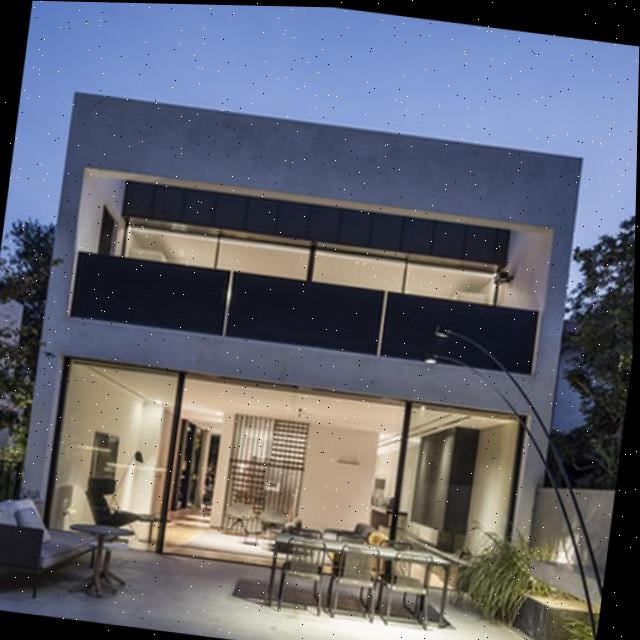building: (14, 91, 585, 608)
